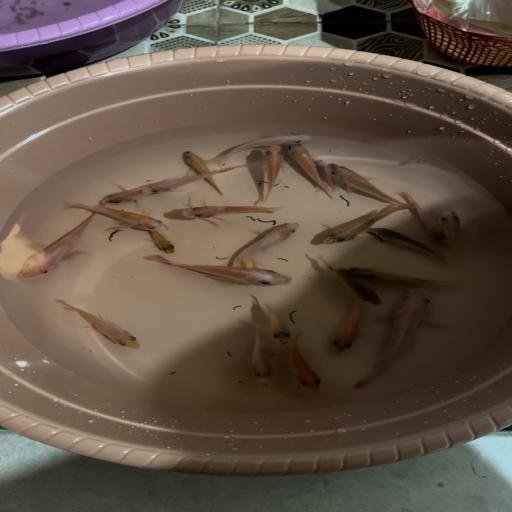nila: (356, 286, 439, 393), (14, 212, 108, 280), (141, 256, 300, 292), (46, 298, 150, 351), (216, 220, 306, 269), (319, 204, 410, 248), (325, 159, 404, 206), (69, 199, 175, 234), (335, 264, 461, 293), (147, 163, 243, 201), (212, 128, 312, 163), (364, 228, 448, 266), (317, 261, 382, 307), (322, 301, 374, 356), (173, 198, 288, 222), (246, 294, 296, 346), (177, 150, 233, 194), (285, 338, 327, 394), (402, 192, 445, 244), (286, 143, 327, 195), (247, 328, 279, 394), (255, 144, 290, 201), (97, 182, 160, 211), (436, 208, 468, 253), (138, 227, 180, 255), (311, 156, 340, 190)
